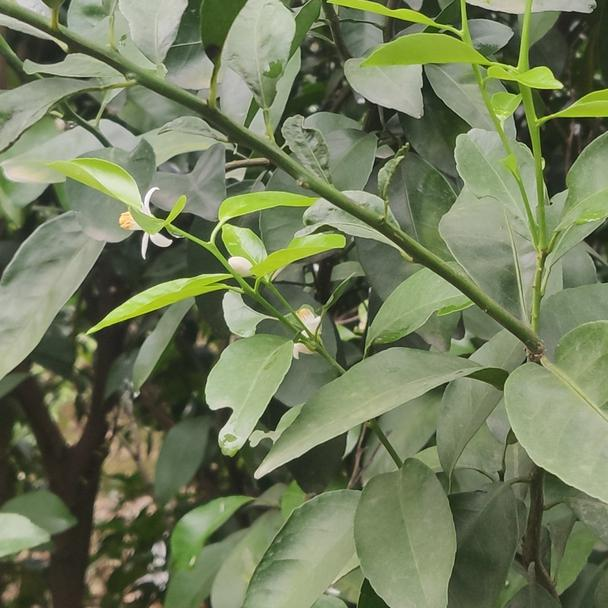shoot: (55, 147, 319, 314), (352, 1, 571, 174)
